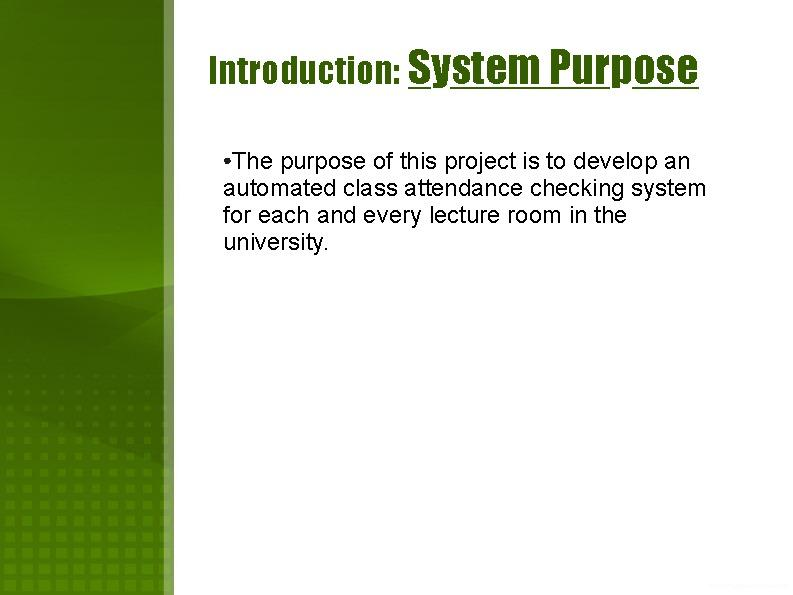paragraph: (206, 132, 773, 272)
title: (202, 33, 715, 108)
